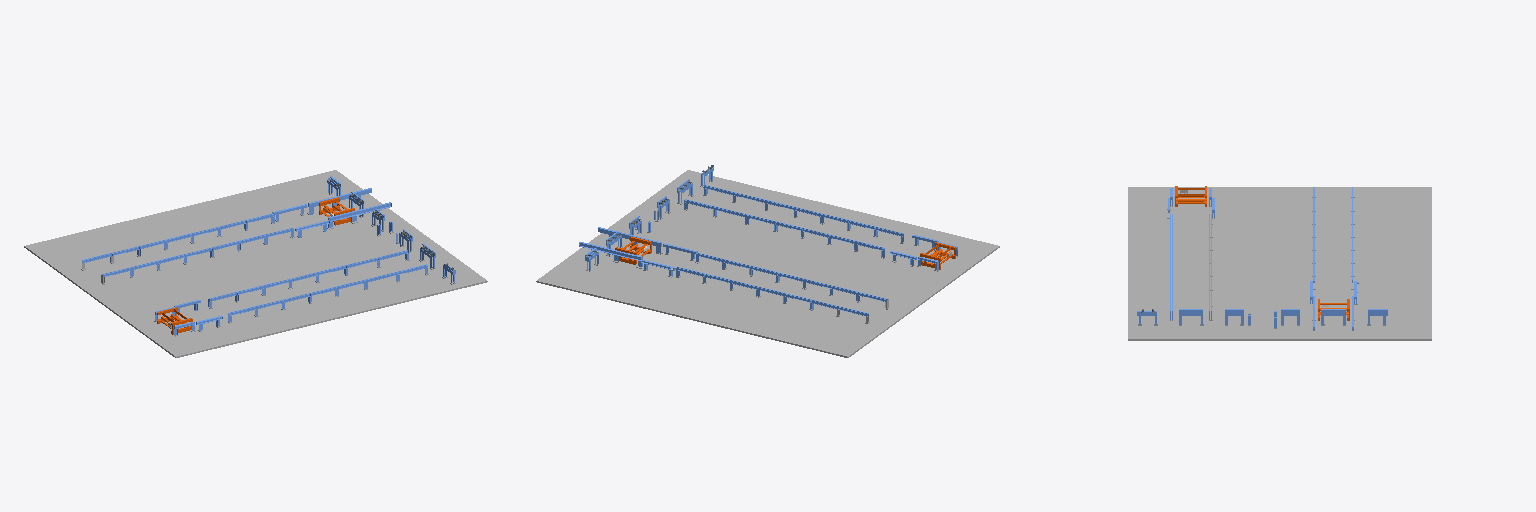
Rendered from Conveyor.obj.
The picture shows the model from 3 angles: view 1: azimuth 30°, elevation 25°; view 2: azimuth 150°, elevation 25°; view 3: azimuth 270°, elevation 25°; orthographic projection.
Visible parts, largest first — view 1: Conveyor; view 2: Conveyor; view 3: Conveyor.
Boxes of the visible parts, x1,y1,x2,y2 form: Conveyor: [24, 170, 487, 357]; Conveyor: [536, 165, 999, 357]; Conveyor: [1128, 186, 1431, 340].
Size of the model in its own units: 329 by 18.01 by 277.